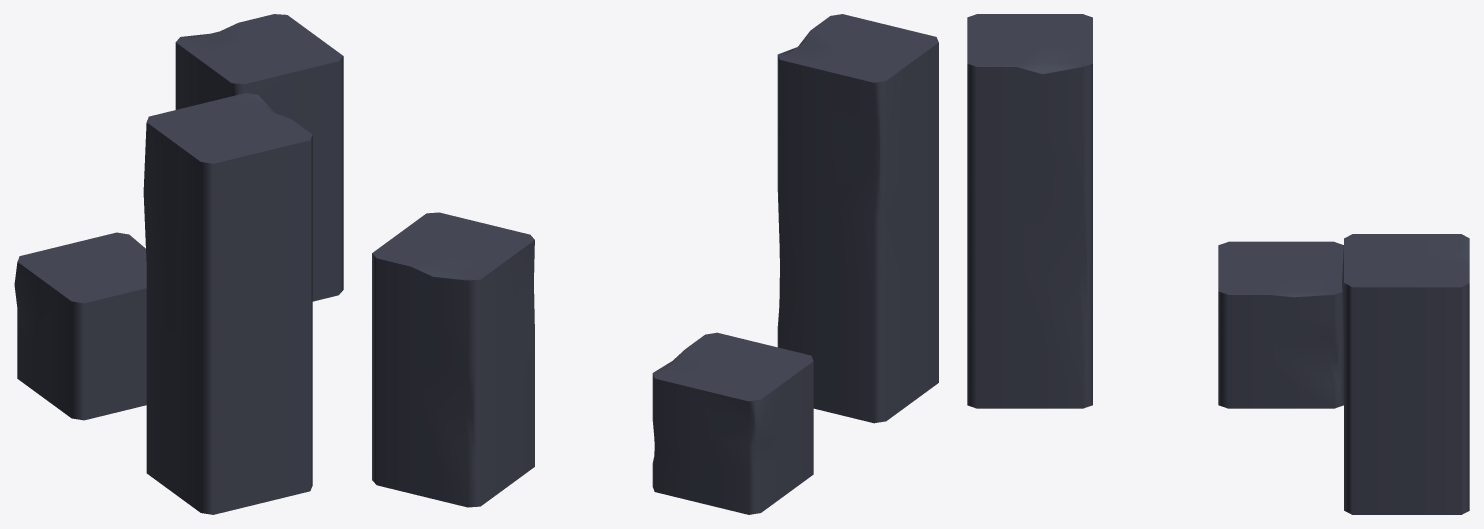
Rendered from various_platforms.fbx.
The picture shows the model from 3 angles, left to right: view 1: azimuth 30°, elevation 25°; view 2: azimuth 150°, elevation 25°; view 3: azimuth 270°, elevation 25°; orthographic projection. The views are drawn at different scales.
Visible parts, largest first — view 1: column_block14, column_block11, column_block9; view 2: column_block14, column_block9, column_block11; view 3: column_block14, column_block9, column_block11.
Part boxes in pixels (x1=…): column_block14: x1=143, y1=93, x2=312, y2=514; column_block11: x1=14, y1=232, x2=146, y2=420; column_block9: x1=175, y1=14, x2=343, y2=301; column_block14: x1=777, y1=14, x2=938, y2=423; column_block9: x1=372, y1=212, x2=534, y2=507; column_block11: x1=652, y1=332, x2=813, y2=514; column_block14: x1=967, y1=14, x2=1092, y2=408; column_block9: x1=1342, y1=234, x2=1469, y2=514; column_block11: x1=1218, y1=241, x2=1343, y2=408.
Size of the model in its own units: 30.18 by 30 by 40.
